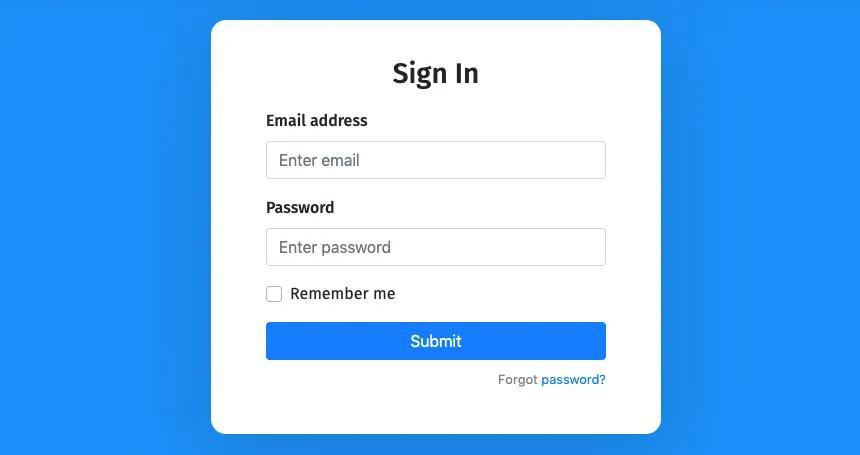button: (268, 321, 607, 364)
checkbox: (266, 287, 283, 302)
input: (266, 140, 609, 181), (266, 229, 607, 269)
label: (391, 53, 485, 95), (289, 283, 401, 304), (264, 112, 373, 131), (263, 199, 341, 219)
